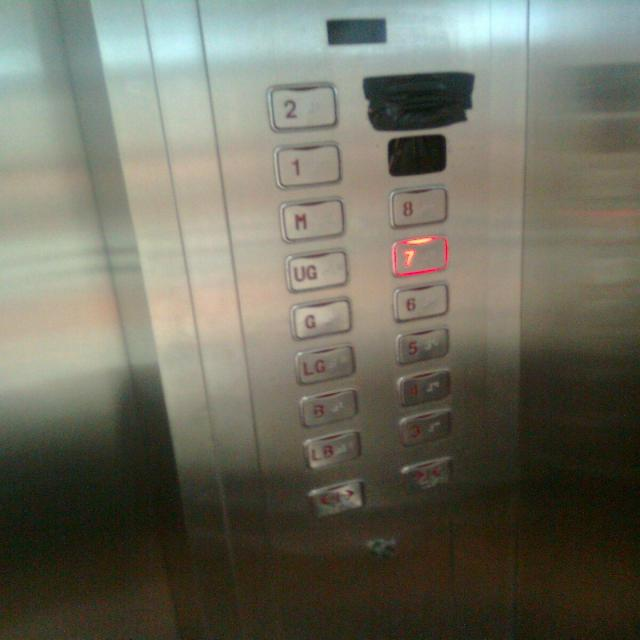1: (272, 140, 343, 190)
2: (264, 81, 340, 133)
3: (398, 409, 452, 447)
4: (396, 368, 450, 406)
5: (396, 326, 449, 366)
6: (393, 282, 448, 322)
7: (391, 234, 452, 276)
8: (388, 183, 449, 229)
B: (299, 388, 358, 426)
G: (288, 296, 352, 341)
LB: (302, 430, 361, 469)
LG: (293, 343, 356, 385)
M: (280, 195, 346, 243)
UG: (284, 248, 348, 293)
close: (399, 456, 452, 492)
empty: (384, 132, 448, 177)
led: (323, 16, 389, 46)
open: (307, 480, 364, 516)
